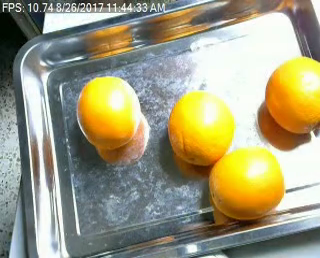Orange: (207, 148, 284, 219), (168, 91, 236, 167), (76, 76, 139, 149), (264, 55, 319, 135)
